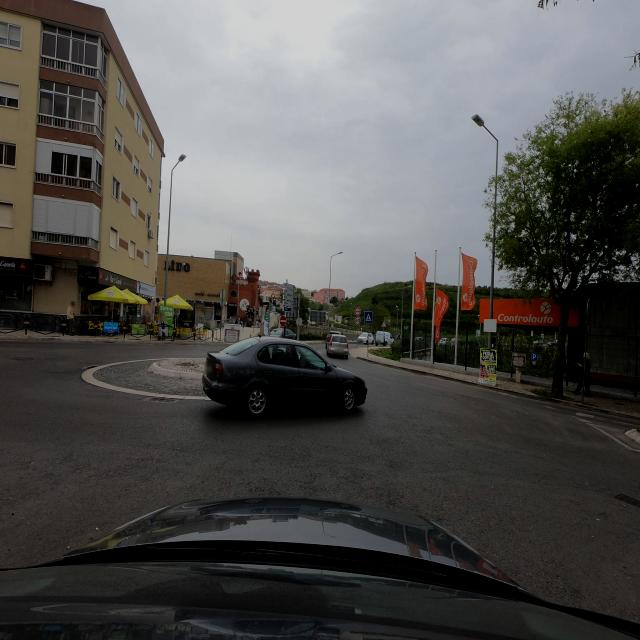car: (201, 338, 368, 418), (326, 333, 349, 359), (269, 328, 297, 339), (375, 331, 394, 346), (356, 332, 374, 345)
